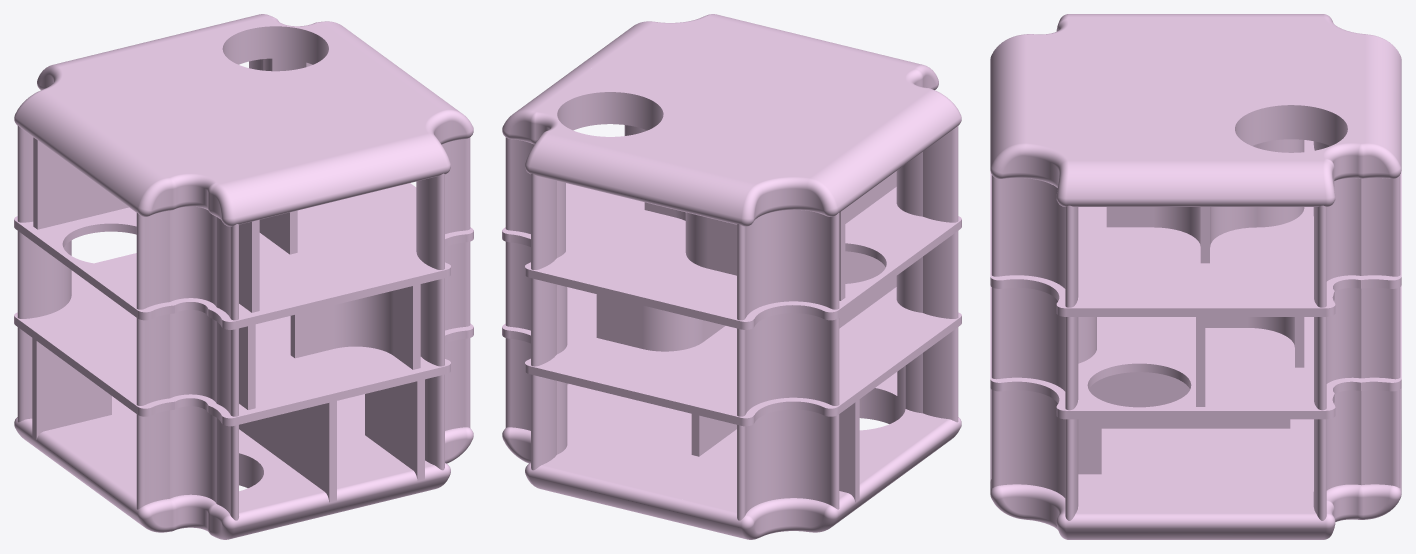
The model's file is miro.gltf.
3 views of the same model, side by side, from view 1: azimuth 30°, elevation 25°; view 2: azimuth 150°, elevation 25°; view 3: azimuth 270°, elevation 25° (orthographic). The views are drawn at different scales.
Visible parts, largest first — view 1: TransformZUpToYUp; view 2: TransformZUpToYUp; view 3: TransformZUpToYUp.
Boxes of the visible parts, x1=… form: TransformZUpToYUp: x1=14, y1=14, x2=473, y2=539; TransformZUpToYUp: x1=502, y1=14, x2=961, y2=539; TransformZUpToYUp: x1=990, y1=14, x2=1401, y2=539.
Size of the model in its own units: 43.66 by 44 by 43.66.
